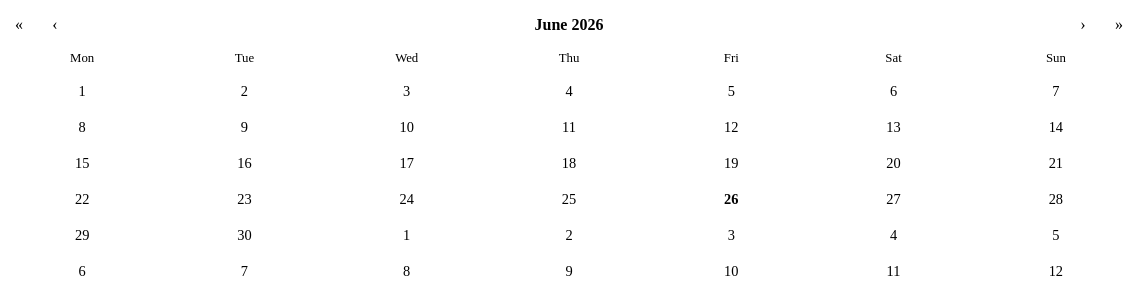
Test case: Calendar 面板 › 点 header 进 year 视图
Click the button with aria-label "选择年月" at coordinates (569, 25), box left=73, top=16, right=1065, bottom=34
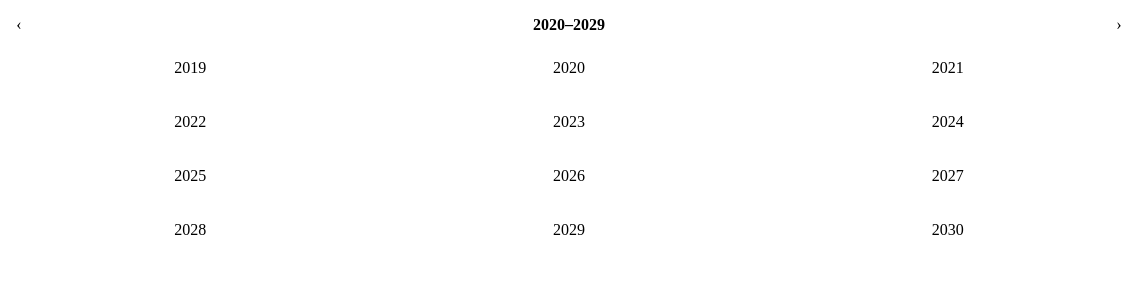
Expected: the button "2026" is shown, left=380, top=151, right=758, bottom=201
Expected: the button "2030" is shown, left=758, top=205, right=1137, bottom=255
